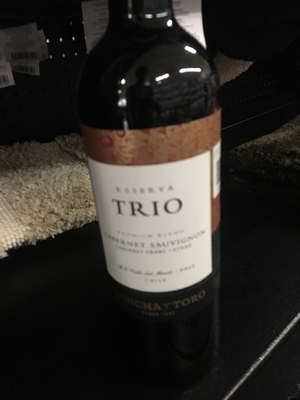trio cabernet sauvignon: (65, 19, 243, 325)
